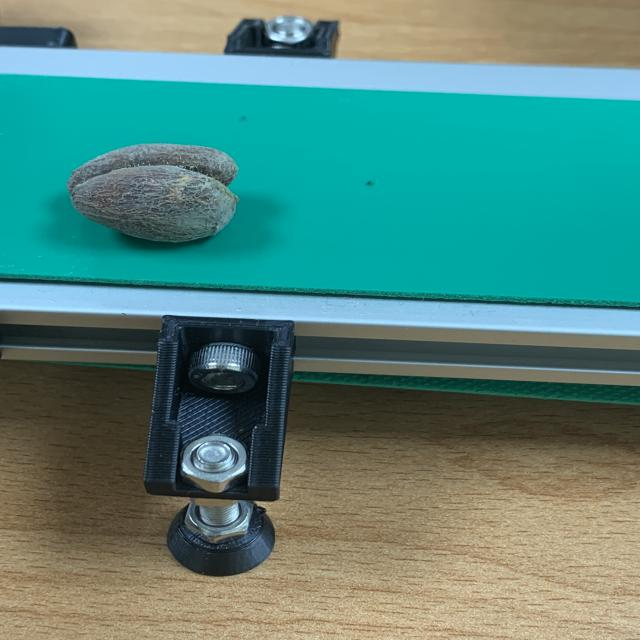Agglomerated_cocoabeans: (20, 109, 332, 294)
